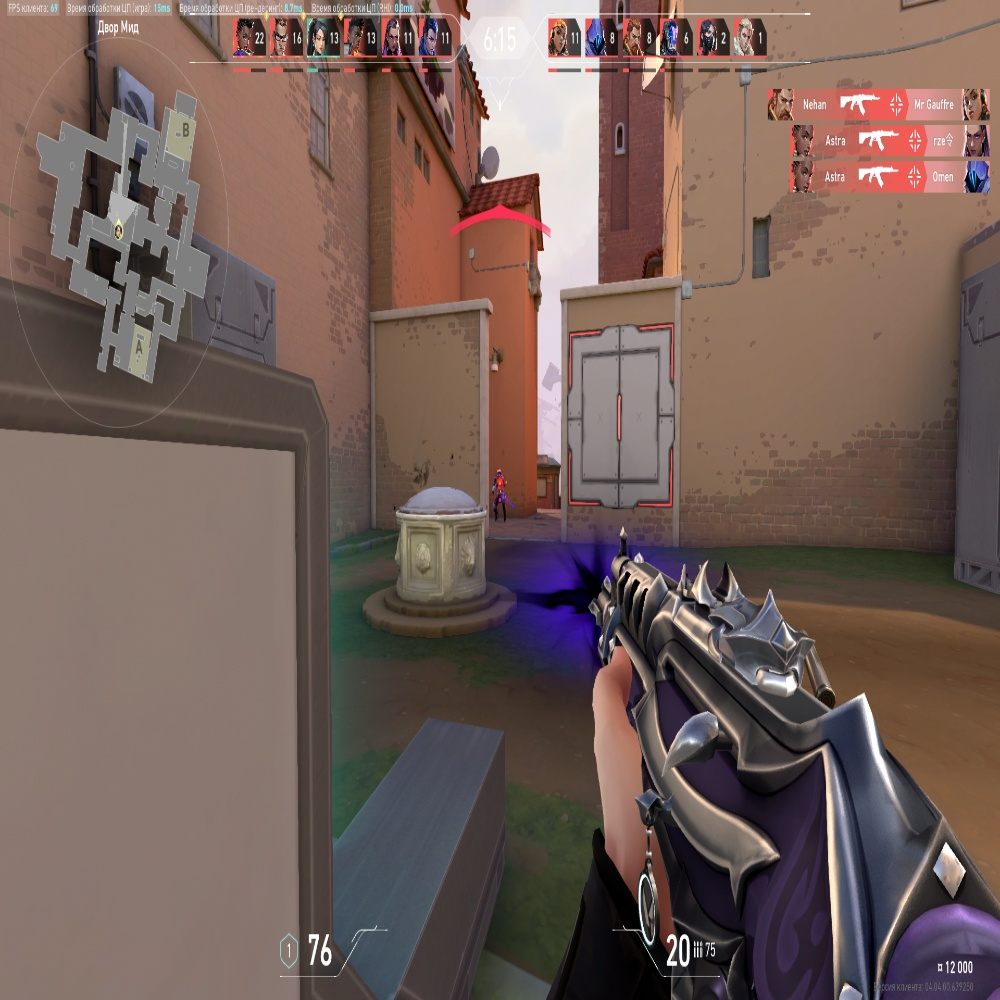body: (493, 479, 505, 498)
head: (496, 469, 502, 479)
